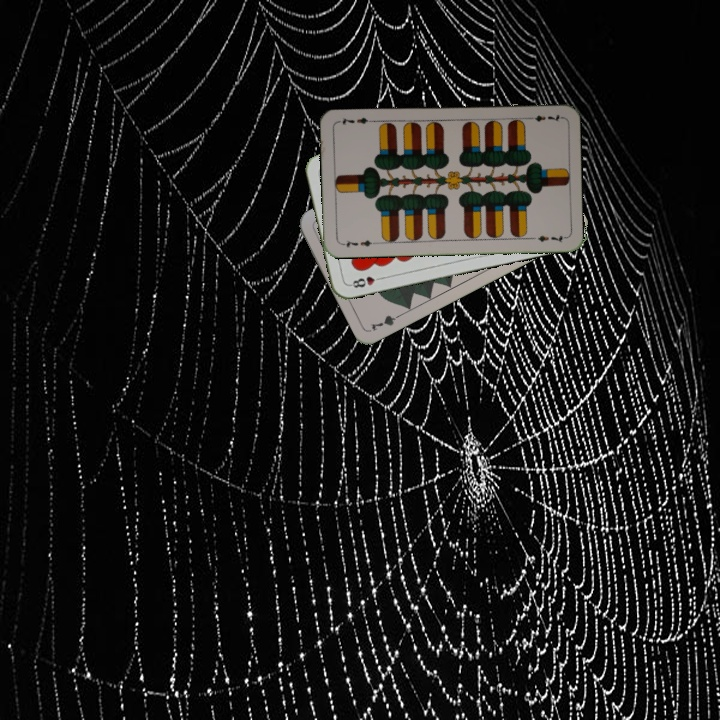E7: (523, 110, 564, 124), (338, 236, 378, 250)
G7: (366, 309, 406, 333)
H8: (346, 272, 386, 290)
